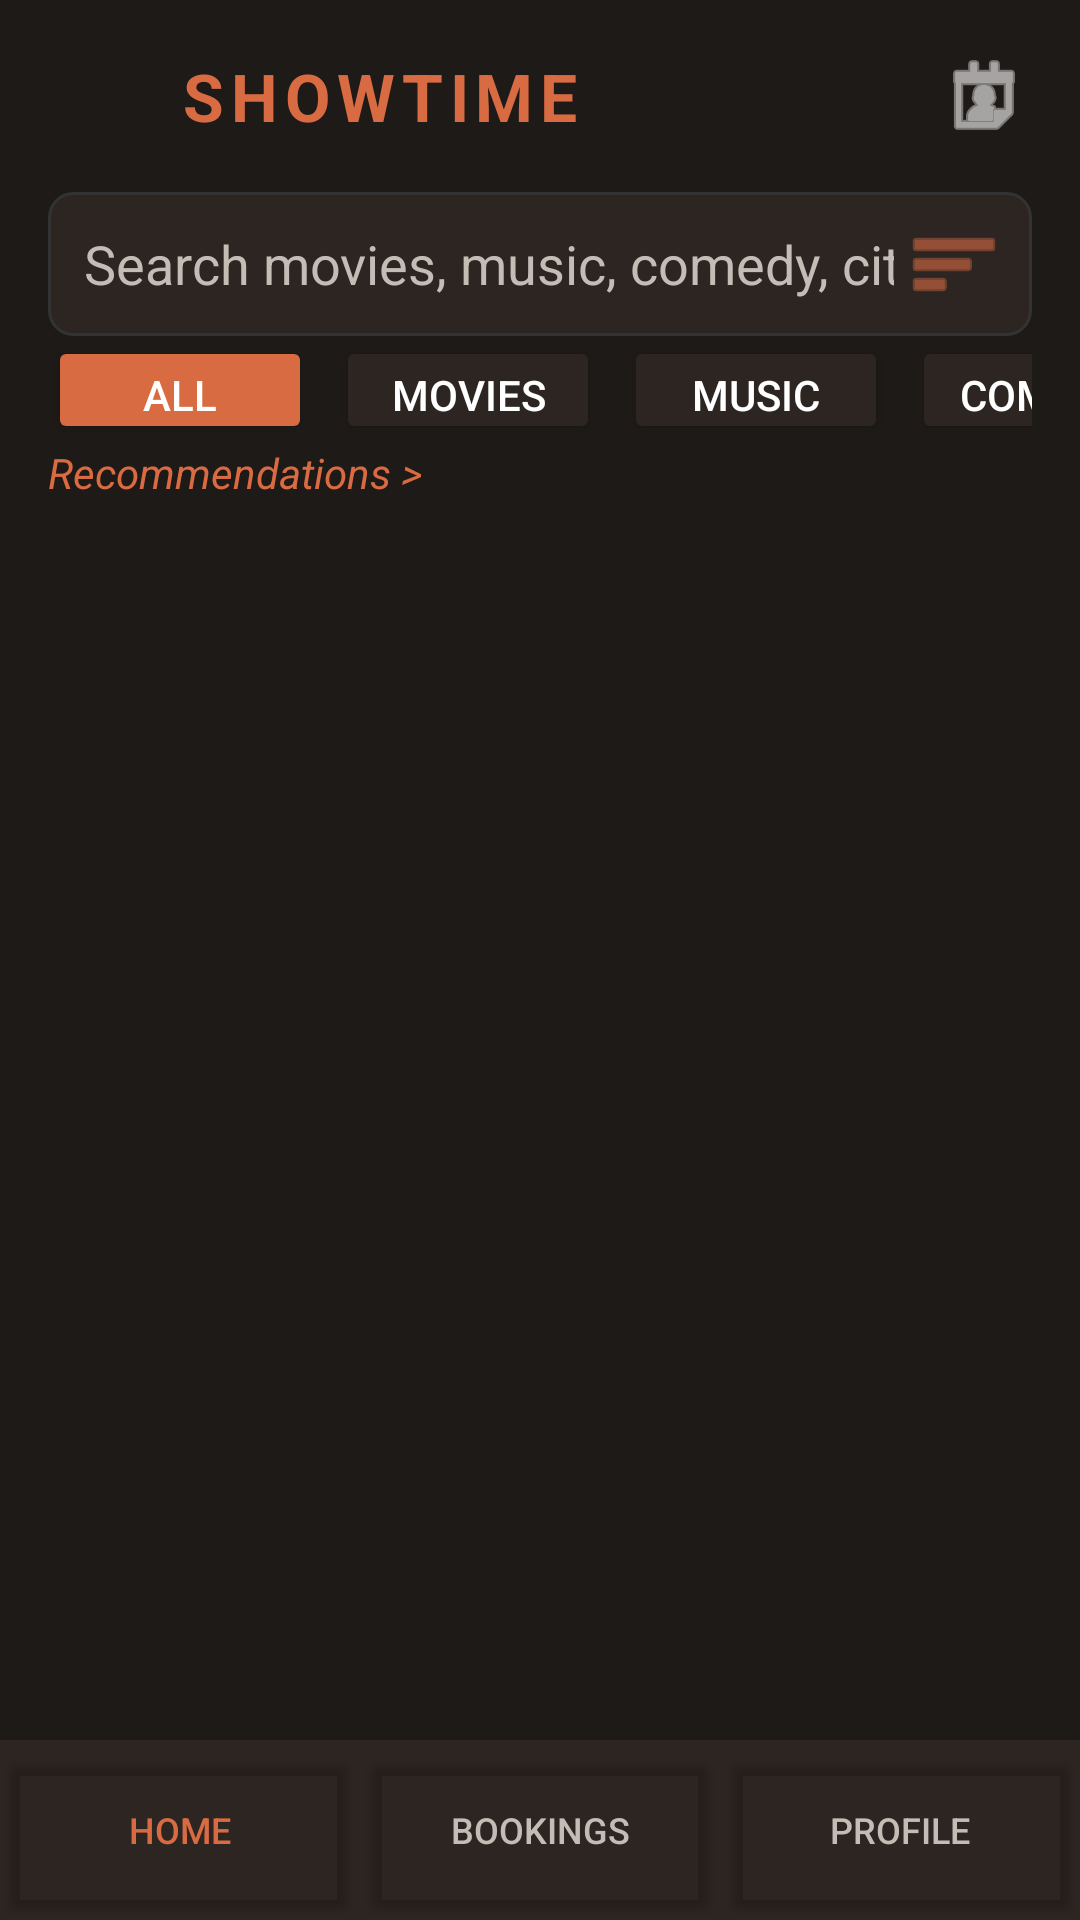

Where icons sit on this 1080×1920 app screen, as (x1, y1, x2, y2):
Filter events: (913, 238, 995, 291)
